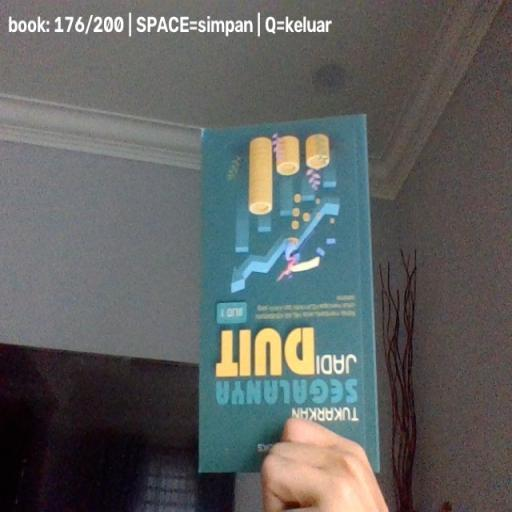Book: (198, 113, 380, 476)
